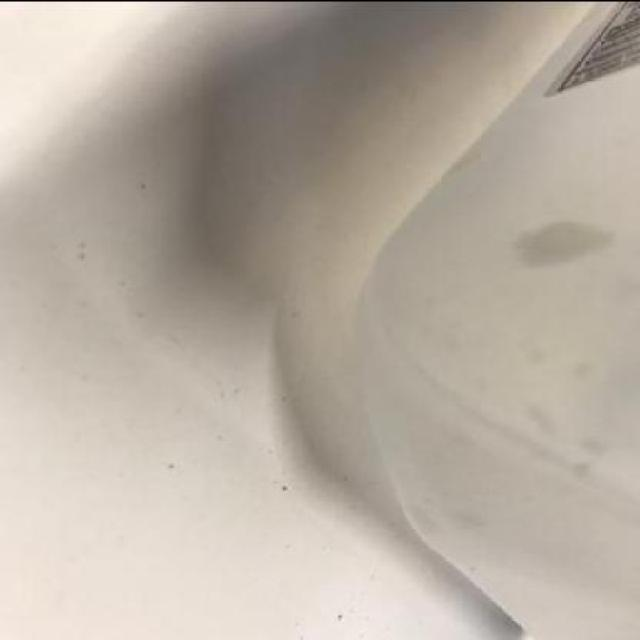PLASTIC: (351, 1, 640, 638)
